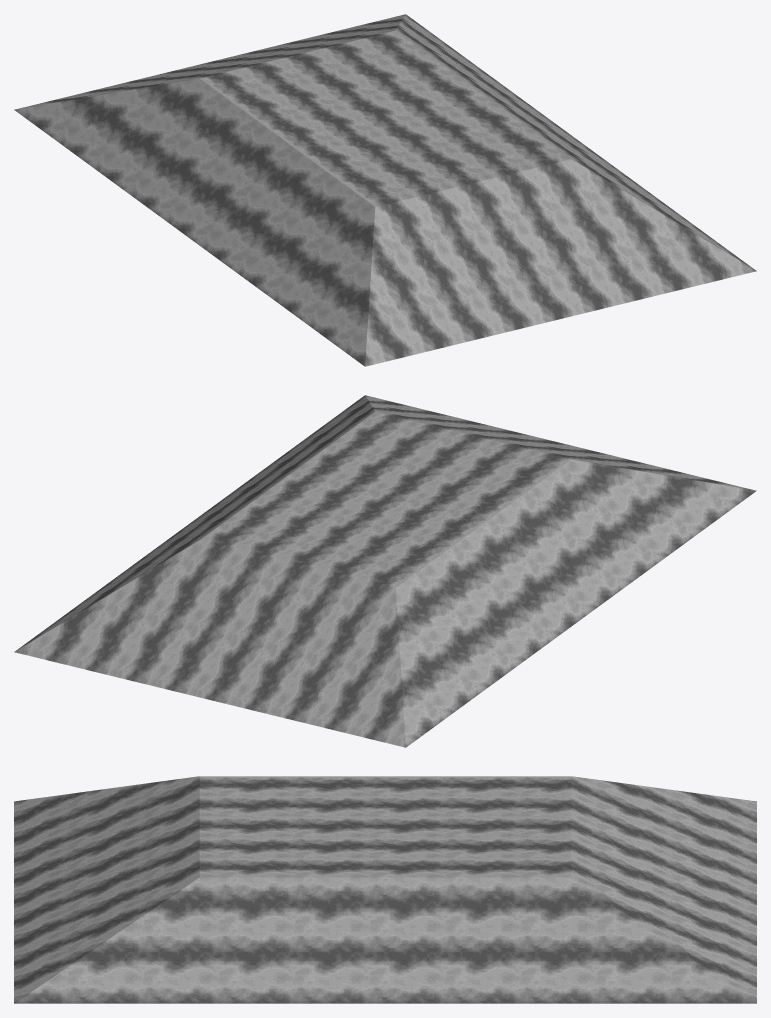
Rendered from unit1_land_model.fbx.
3 views of the same model, one above another, from view 1: azimuth 30°, elevation 25°; view 2: azimuth 150°, elevation 25°; view 3: azimuth 270°, elevation 25° (orthographic). The views are drawn at different scales.
Parts seen in each view (by area): view 1: mesh60; view 2: mesh60; view 3: mesh60.
Part boxes in pixels (x1,y1,x2,y2): mesh60: [14, 14, 756, 366]; mesh60: [14, 395, 756, 747]; mesh60: [14, 776, 756, 1003].
Bounding box in the file's own units: 698 × 122 × 1084.
